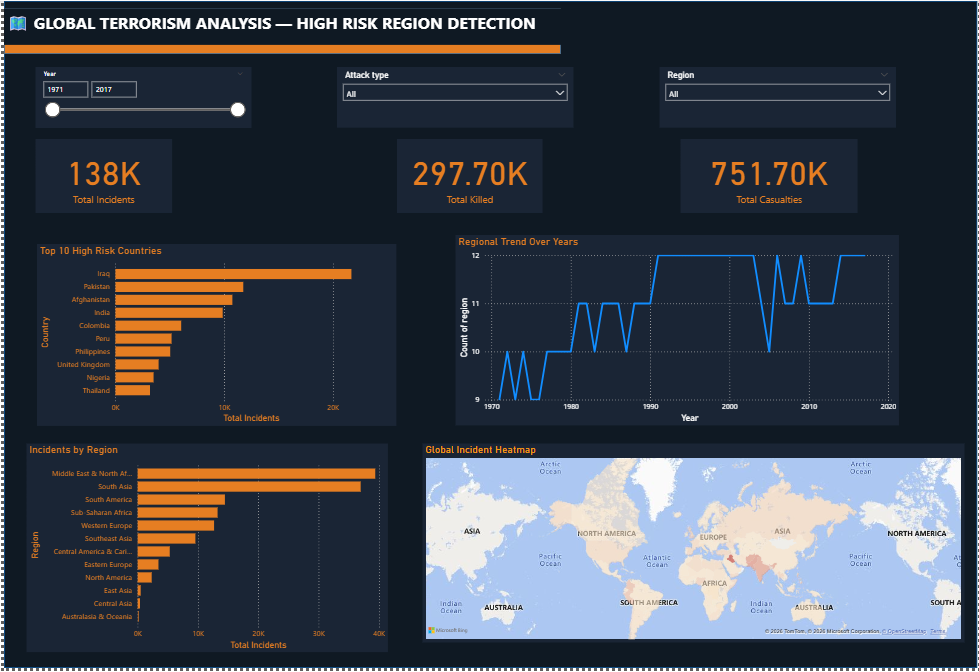

What the dashboard file says about the page in this screenshot:
{"tool":"powerbi","page":{"name":"High Risk Regions","canvas":[1605,1100],"ordinal":3},"visuals":[{"type":"shape","box":[0,0,1605,1100],"z":625},{"type":"shape","box":[0,13.3,918.3,75],"z":687},{"type":"textbox","box":[0,13.3,918.3,60],"z":750},{"type":"card","fields":{"Values":["Global Terrorism Data.Total Incidents"]},"box":[51.7,228.3,225,121.7],"z":1000},{"type":"card","fields":{"Values":["Global Terrorism Data.Total Killed"]},"box":[648.3,228.3,240,121.7],"z":2000},{"type":"card","fields":{"Values":["Global Terrorism Data.Total Casualties"]},"box":[1116,228,292,122],"z":3000},{"type":"filledMap","title":" Global Incident Heatmap","fields":{"Category":["Global Terrorism Data.country_txt"],"Y":["Global Terrorism Data.Total Incidents"]},"box":[690,730,892.5,327.5],"z":4000},{"type":"clusteredBarChart","title":" Incidents by Region","fields":{"Category":["Global Terrorism Data.region_txt"],"Y":["Global Terrorism Data.Total Incidents"]},"box":[38,730,596,344],"z":5000},{"type":"clusteredBarChart","title":"Top 10 High Risk Countries","fields":{"Category":["Global Terrorism Data.country_txt"],"Y":["Global Terrorism Data.Total Incidents"]},"box":[55,400,592.5,300],"z":6000},{"type":"slicer","fields":{"Values":["Global Terrorism Data.iyear"]},"box":[52.5,110,355,100],"z":7000},{"type":"slicer","fields":{"Values":["Global Terrorism Data.region_txt"]},"box":[1080,110,390,100],"z":8000},{"type":"slicer","fields":{"Values":["Global Terrorism Data.attacktype1_txt"]},"box":[550,110,390,100],"z":9000},{"type":"lineChart","title":" Regional Trend Over Years","fields":{"Category":["Global Terrorism Data.iyear"],"Y":["Count(Global Terrorism Data.region_txt)"]},"box":[745.7,385.7,731.4,314.3],"z":12000}]}

Visuals, with their boxes in screenshot pixels (x1, y1, x2, y2), scaled from the page's 1605x1100 canvas onto the 979x672 screenshot:
shape: [x1=0, y1=0, x2=978, y2=671]
shape: [x1=0, y1=8, x2=560, y2=54]
textbox: [x1=0, y1=8, x2=560, y2=45]
card - Global Terrorism Data.Total Incidents: [x1=32, y1=139, x2=169, y2=214]
card - Global Terrorism Data.Total Killed: [x1=395, y1=139, x2=542, y2=214]
card - Global Terrorism Data.Total Casualties: [x1=681, y1=139, x2=859, y2=214]
" Global Incident Heatmap" filledMap: [x1=421, y1=446, x2=965, y2=646]
" Incidents by Region" clusteredBarChart: [x1=23, y1=446, x2=387, y2=656]
"Top 10 High Risk Countries" clusteredBarChart: [x1=34, y1=244, x2=395, y2=428]
slicer - Global Terrorism Data.iyear: [x1=32, y1=67, x2=249, y2=128]
slicer - Global Terrorism Data.region_txt: [x1=659, y1=67, x2=897, y2=128]
slicer - Global Terrorism Data.attacktype1_txt: [x1=335, y1=67, x2=573, y2=128]
" Regional Trend Over Years" lineChart: [x1=455, y1=236, x2=901, y2=428]
